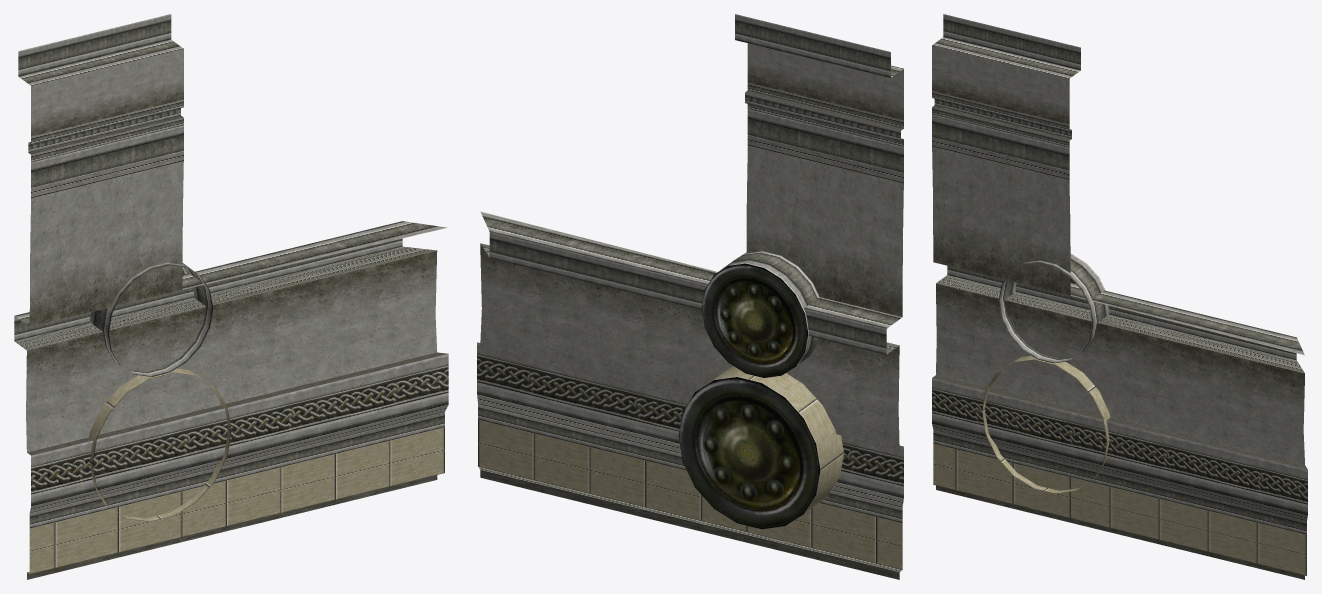
The model's file is DWARF_PALACE_GEAR_ROOM_WALL02A.fbx.
3 renders of one model, left to right at view 1: azimuth 30°, elevation 25°; view 2: azimuth 150°, elevation 25°; view 3: azimuth 330°, elevation 25°, orthographic. The views are drawn at different scales.
Visible parts, largest first — view 1: DWARF_PALACE_GEAR_ROOM_WALL02A; view 2: DWARF_PALACE_GEAR_ROOM_WALL02A; view 3: DWARF_PALACE_GEAR_ROOM_WALL02A.
Boxes of the visible parts, <box> form: DWARF_PALACE_GEAR_ROOM_WALL02A: <box>14,14,448,579</box>; DWARF_PALACE_GEAR_ROOM_WALL02A: <box>477,14,903,579</box>; DWARF_PALACE_GEAR_ROOM_WALL02A: <box>932,14,1307,579</box>.
Size of the model in its own units: 171449 by 205000 by 18662.
9 materials, 9 textured.
